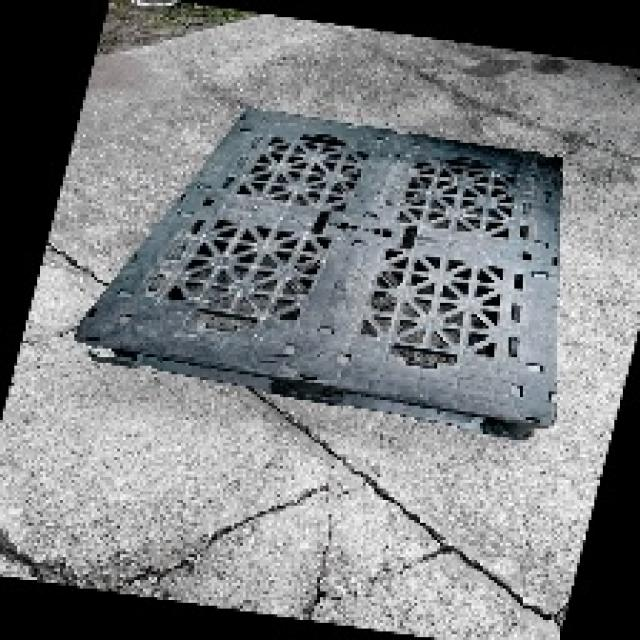igps: (66, 102, 569, 448)
